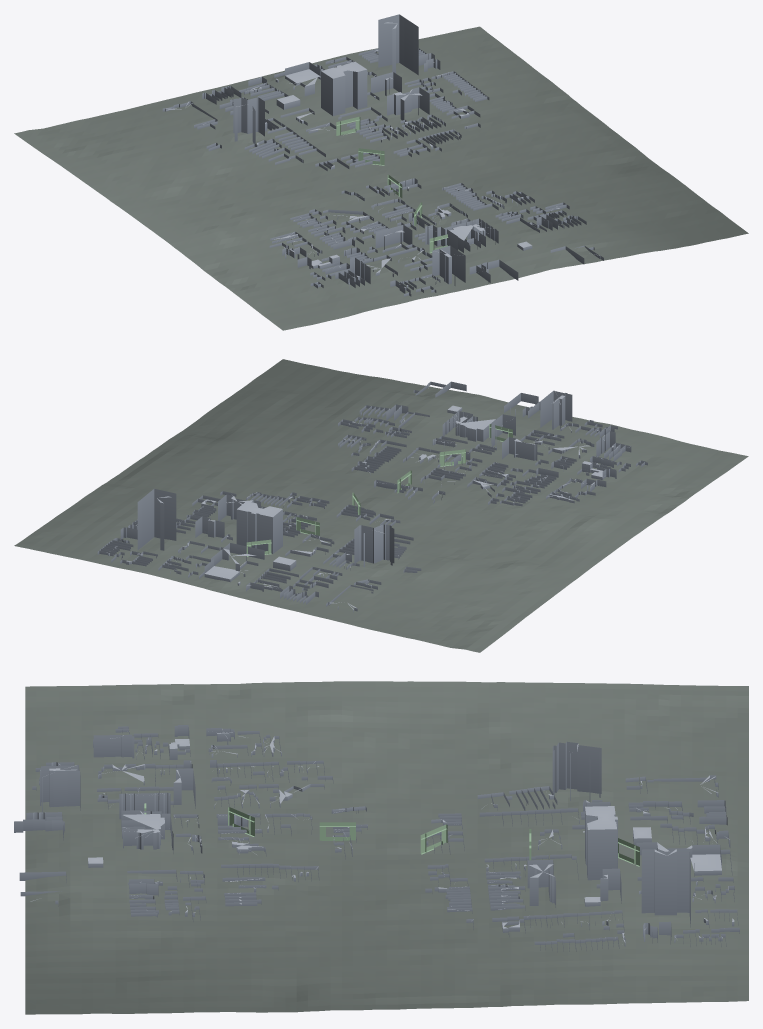
Rendered from mount-vernon_chisel_collider.glb.
The picture shows the model from 3 angles, top to bottom: view 1: azimuth 30°, elevation 25°; view 2: azimuth 150°, elevation 25°; view 3: azimuth 270°, elevation 25°; orthographic projection. The views are drawn at different scales.
Visible parts, largest first — view 1: DISTRICT_CHISEL_COLLIDER; view 2: DISTRICT_CHISEL_COLLIDER; view 3: DISTRICT_CHISEL_COLLIDER.
Boxes of the visible parts, x1=… form: DISTRICT_CHISEL_COLLIDER: x1=14, y1=14, x2=748, y2=330; DISTRICT_CHISEL_COLLIDER: x1=14, y1=359, x2=748, y2=652; DISTRICT_CHISEL_COLLIDER: x1=14, y1=681, x2=748, y2=1014.
Size of the model in its own units: 160 by 20.69 by 162.
